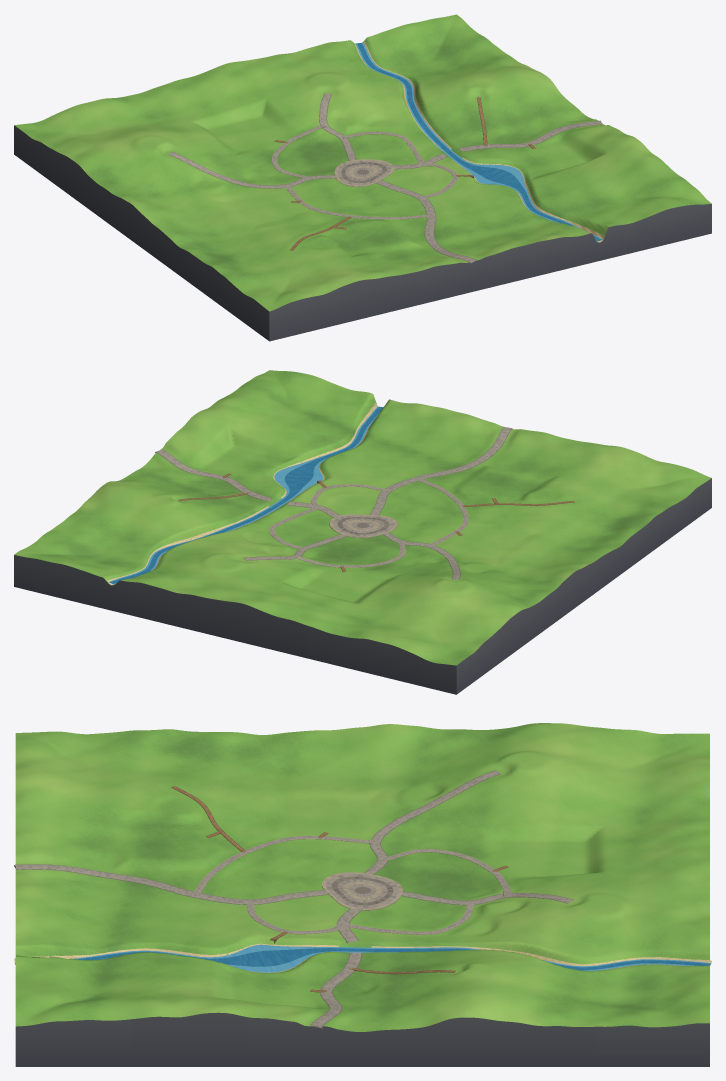
Rendered from village_terrain.glb.
The picture shows the model from 3 angles, top to bottom: view 1: azimuth 30°, elevation 25°; view 2: azimuth 150°, elevation 25°; view 3: azimuth 270°, elevation 25°; orthographic projection. The views are drawn at different scales.
Visible parts, largest first — view 1: terrain_r0_c0, terrain_r0_c5, terrain_r0_c1, terrain_r4_c0, terrain_r3_c0, terrain_r0_c4, terrain_r0_c3, terrain_r0_c2, terrain_r2_c0, terrain_r3_c5, terrain_r5_c0, terrain_r1_c0 (+32 smaller); view 2: terrain_r5_c0, terrain_r5_c3, terrain_r5_c1, terrain_r5_c2, terrain_r5_c5, terrain_r0_c0, terrain_r4_c0, terrain_r1_c0, terrain_r5_c4, terrain_r4_c5, terrain_r0_c3, terrain_r2_c0 (+30 smaller); view 3: terrain_r4_c5, terrain_r3_c5, terrain_r0_c5, terrain_r1_c5, terrain_r5_c5, terrain_r2_c5, terrain_r4_c1, terrain_r2_c0, terrain_r3_c0, terrain_r0_c1, terrain_r1_c0, terrain_r5_c4 (+34 smaller).
Part boxes in pixels (x1,y1,x2,y2): terrain_r0_c0: (227,262,343,341); terrain_r0_c5: (596,167,711,251); terrain_r0_c1: (301,249,416,323); terrain_r4_c0: (56,131,172,216); terrain_r3_c0: (99,161,214,247); terrain_r0_c4: (522,191,638,269); terrain_r0_c3: (448,215,564,287); terrain_r0_c2: (375,235,490,305); terrain_r2_c0: (141,206,257,278); terrain_r3_c5: (468,71,583,135); terrain_r5_c0: (14,102,129,185); terrain_r1_c0: (184,236,300,309); terrain_r5_c0: (382,609,498,694); terrain_r5_c3: (161,556,276,640); terrain_r5_c1: (309,602,424,676); terrain_r5_c2: (235,578,349,658); terrain_r5_c5: (14,526,129,604); terrain_r0_c0: (596,452,711,538); terrain_r4_c0: (425,576,541,663); terrain_r1_c0: (553,491,669,569); terrain_r5_c4: (87,549,203,622); terrain_r4_c5: (57,487,172,548); terrain_r0_c3: (374,403,490,463); terrain_r2_c0: (511,527,626,600); terrain_r4_c5: (478,964,594,1066); terrain_r3_c5: (363,964,478,1066); terrain_r0_c5: (15,976,131,1066); terrain_r1_c5: (131,976,247,1066); terrain_r5_c5: (594,974,709,1066); terrain_r2_c5: (247,988,362,1066); terrain_r4_c1: (478,763,594,840); terrain_r2_c0: (247,727,362,790); terrain_r3_c0: (363,724,478,790); terrain_r0_c1: (15,771,131,836); terrain_r1_c0: (131,729,247,788); terrain_r5_c4: (594,921,709,986).
Bounding box in the file's own units: 771 × 72.12 × 772.
1 material, 1 textured.
